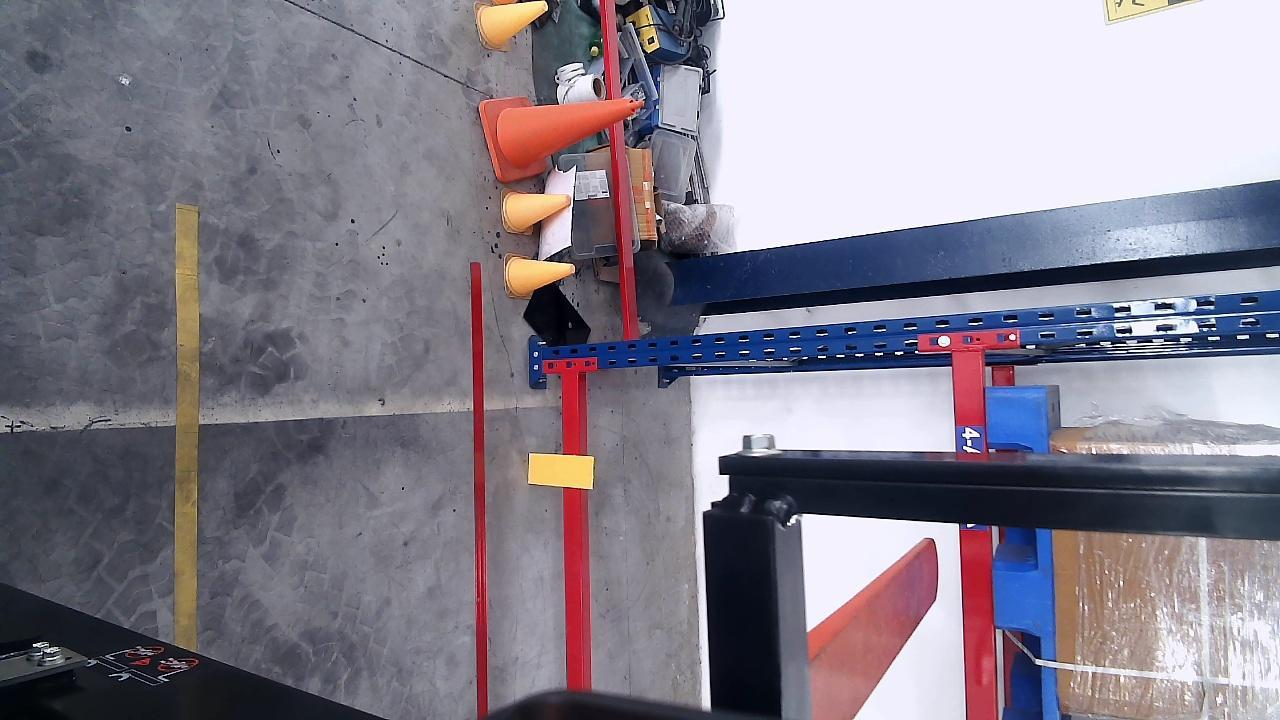h_rack: (950, 350, 1001, 718), (560, 368, 593, 686)
orange_strip: (531, 455, 595, 488)
red_line: (470, 261, 492, 716)
small_pallet: (982, 393, 1054, 718)
yellow_line: (175, 202, 199, 650)
